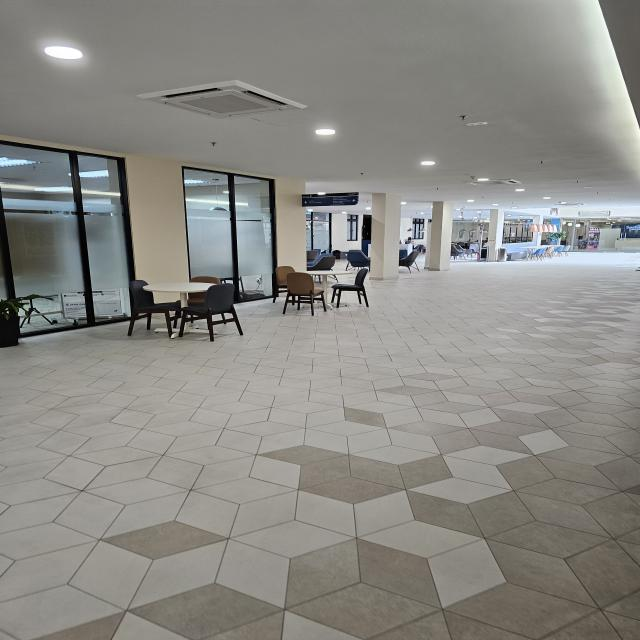footpath: (1, 358, 640, 636)
obstacle: (125, 272, 252, 343), (271, 260, 380, 307)
